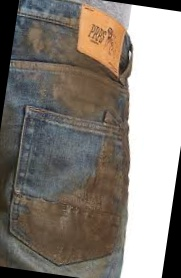earth: (26, 198, 121, 254), (61, 66, 115, 115), (22, 26, 76, 64), (92, 156, 129, 209)
